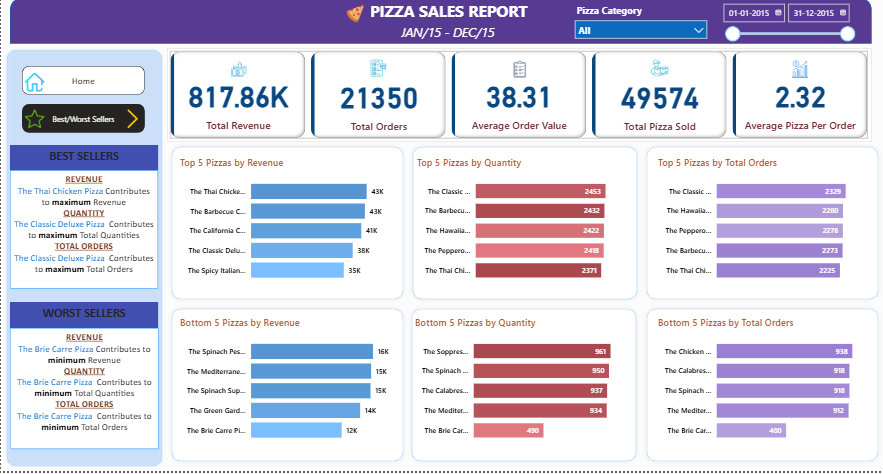

The page's visual inventory and layout, read from the dashboard file:
{"tool":"powerbi","page":{"name":"Best/Worst Sellers","canvas":[1500,820],"ordinal":1},"visuals":[{"type":"shape","box":[1.7,95.3,280.7,724.7],"z":0},{"type":"cardVisual","fields":{"Data":["pizza_sales.Total Revenue","pizza_sales.Total Orders","pizza_sales.Average Order Value","pizza_sales.Total Pizza Sold","pizza_sales.Average Pizza Per Order"]},"box":[282.4,100.4,1199.4,159.9],"z":1000},{"type":"textbox","box":[602,16,296,46],"z":2000},{"type":"textbox","box":[666,54,194,40],"z":3000},{"type":"shape","box":[16,16,1466,78],"z":4000},{"type":"textbox","box":[622.7,13.6,287.5,47.6],"z":5000},{"type":"textbox","box":[675.4,54.4,183.7,39.1],"z":6000},{"type":"image","box":[578,22,48,40],"z":7000},{"type":"textbox","box":[15.3,307.9,251.8,202.4],"z":8000},{"type":"shape","box":[282.4,260.3,410,275.6],"z":9000},{"type":"textbox","box":[15.3,265.4,251.8,42.5],"z":11000},{"type":"textbox","box":[15.3,532.5,251.8,45.9],"z":20000},{"type":"textbox","box":[15.3,576.7,253.5,205.9],"z":21000},{"type":"slicer","fields":{"Values":["pizza_sales.pizza_category"]},"box":[966.3,20.4,245,66.3],"z":22000},{"type":"slicer","fields":{"Values":["pizza_sales.order_date"]},"box":[1216.4,15.3,245,78.3],"z":23000},{"type":"shape","box":[692.4,260.3,398.1,275.6],"z":23001},{"type":"shape","box":[1090.5,260.3,410,275.6],"z":23002},{"type":"shape","box":[282.4,535.9,410,275.6],"z":23003},{"type":"shape","box":[690.7,535.9,398.1,275.6],"z":23004},{"type":"shape","box":[1090.5,535.9,410,275.6],"z":23005},{"type":"barChart","title":"Top 5 Pizzas by Revenue ","fields":{"Category":["pizza_sales.pizza_name"],"Y":["pizza_sales.Total Revenue"]},"box":[299.4,284.1,377.7,226.3],"z":23006},{"type":"barChart","title":"Bottom 5 Pizzas by Revenue ","fields":{"Category":["pizza_sales.pizza_name"],"Y":["pizza_sales.Total Revenue"]},"box":[299.4,556.3,377.7,226.3],"z":23007},{"type":"barChart","title":"Top 5 Pizzas by Quantity","fields":{"Category":["pizza_sales.pizza_name"],"Y":["pizza_sales.Total Pizza Sold"]},"box":[702.6,284.1,367.5,226.3],"z":23008},{"type":"barChart","title":"Bottom 5 Pizzas by Quantity","fields":{"Category":["pizza_sales.pizza_name"],"Y":["pizza_sales.Total Pizza Sold"]},"box":[699.2,556.3,367.5,226.3],"z":23009},{"type":"barChart","title":"Top 5 Pizzas by Total Orders","fields":{"Category":["pizza_sales.pizza_name"],"Y":["pizza_sales.Total Orders"]},"box":[1112.6,284.1,367.5,226.3],"z":23010},{"type":"barChart","title":"Bottom 5 Pizzas by Total Orders","fields":{"Category":["pizza_sales.pizza_name"],"Y":["pizza_sales.Total Orders"]},"box":[1112.6,556.3,367.5,226.3],"z":23011},{"type":"pageNavigator","box":[35.7,131,209.3,49.3],"z":23012},{"type":"pageNavigator","box":[35.7,195.6,209.3,49.3],"z":23013},{"type":"image","box":[202.4,192.2,42.5,56.1],"z":23014},{"type":"image","box":[35.7,136.1,42.5,44.2],"z":23015},{"type":"image","box":[35.7,192.2,42.5,56.1],"z":23016}]}

Visuals, with their boxes in screenshot pixels (x1, y1, x2, y2), scaled from the page's 1500x820 canvas onto the 883x474 screenshot:
shape: 1:55:166:473
cardVisual - pizza_sales.Total Revenue x pizza_sales.Total Orders: 166:58:872:150
textbox: 354:9:529:36
textbox: 392:31:506:54
shape: 9:9:872:54
textbox: 367:8:536:35
textbox: 398:31:506:54
image: 340:13:369:36
textbox: 9:178:157:295
shape: 166:150:408:310
textbox: 9:153:157:178
textbox: 9:308:157:334
textbox: 9:333:158:452
slicer - pizza_sales.pizza_category: 569:12:713:50
slicer - pizza_sales.order_date: 716:9:860:54
shape: 408:150:642:310
shape: 642:150:882:310
shape: 166:310:408:469
shape: 407:310:641:469
shape: 642:310:882:469
"Top 5 Pizzas by Revenue " barChart: 176:164:399:295
"Bottom 5 Pizzas by Revenue " barChart: 176:322:399:452
"Top 5 Pizzas by Quantity" barChart: 414:164:630:295
"Bottom 5 Pizzas by Quantity" barChart: 412:322:628:452
"Top 5 Pizzas by Total Orders" barChart: 655:164:871:295
"Bottom 5 Pizzas by Total Orders" barChart: 655:322:871:452
pageNavigator: 21:76:144:104
pageNavigator: 21:113:144:142
image: 119:111:144:144
image: 21:79:46:104
image: 21:111:46:144
